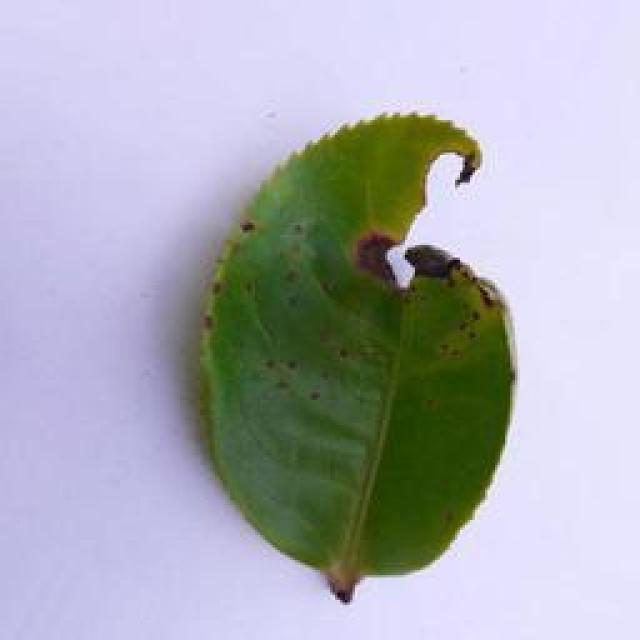Helopeltis: (187, 101, 534, 605)
